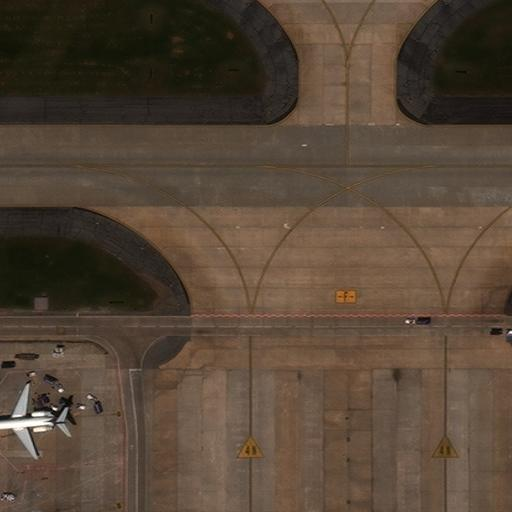Medium Civil Transport: (0, 382, 68, 460)
